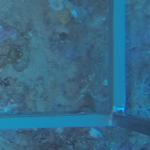dead: (3, 3, 109, 111)
